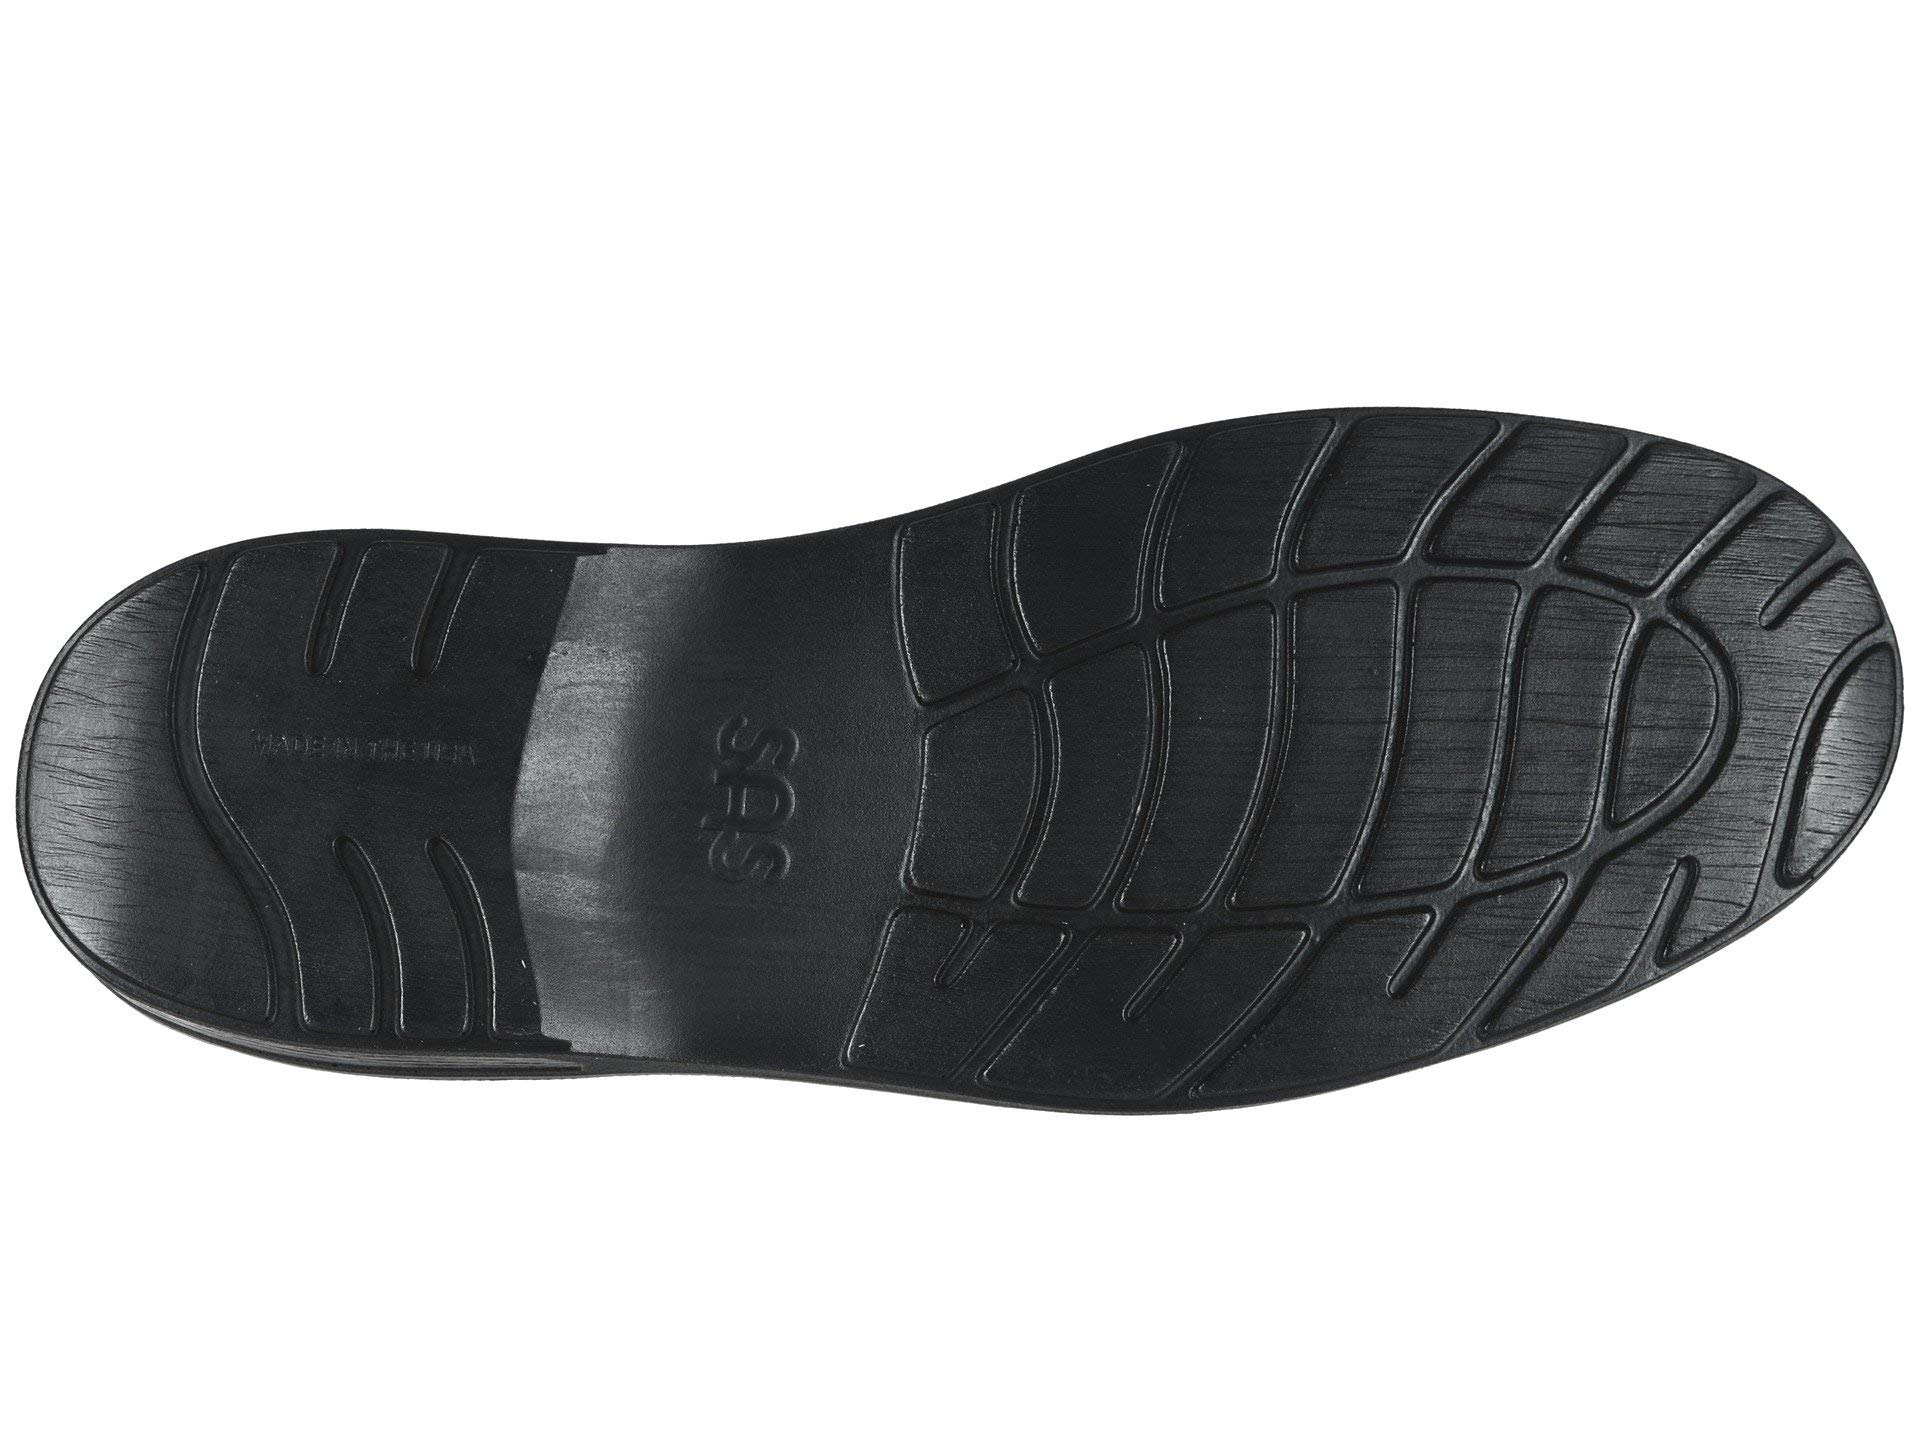other: (1036, 464, 1584, 1035)
quad: (1036, 464, 1584, 1035)
text: (627, 646, 838, 930), (218, 697, 540, 811)
